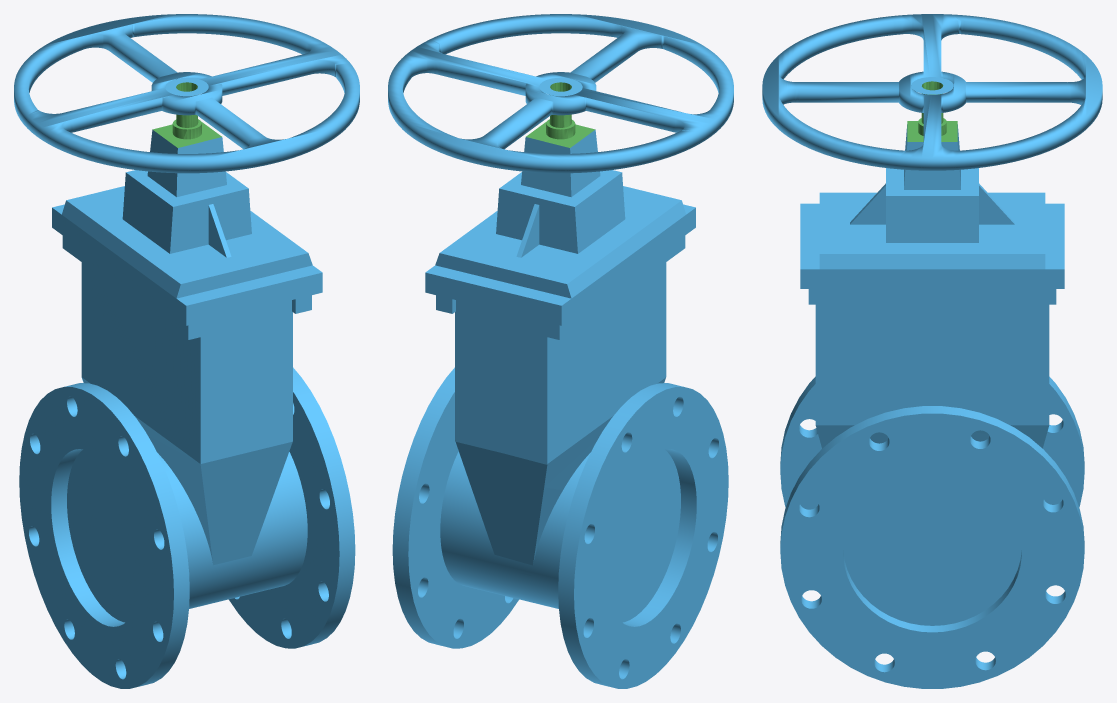
File: Gate valve.fbx
3 renders of one model, left to right at view 1: azimuth 30°, elevation 25°; view 2: azimuth 150°, elevation 25°; view 3: azimuth 270°, elevation 25°, orthographic.
Parts seen in each view (by area): view 1: 3DGeom-1.001, 3DGeom-2.001; view 2: 3DGeom-1.001, 3DGeom-2.001; view 3: 3DGeom-1.001, 3DGeom-2.001.
Part boxes in pixels (box(x1,y1,x2,y2)): 3DGeom-1.001: box(14, 14, 359, 688); 3DGeom-2.001: box(152, 82, 221, 147); 3DGeom-1.001: box(388, 14, 733, 688); 3DGeom-2.001: box(526, 82, 595, 147); 3DGeom-1.001: box(762, 14, 1102, 688); 3DGeom-2.001: box(907, 81, 957, 141).
Size of the model in its own units: 38 by 68.97 by 38.
